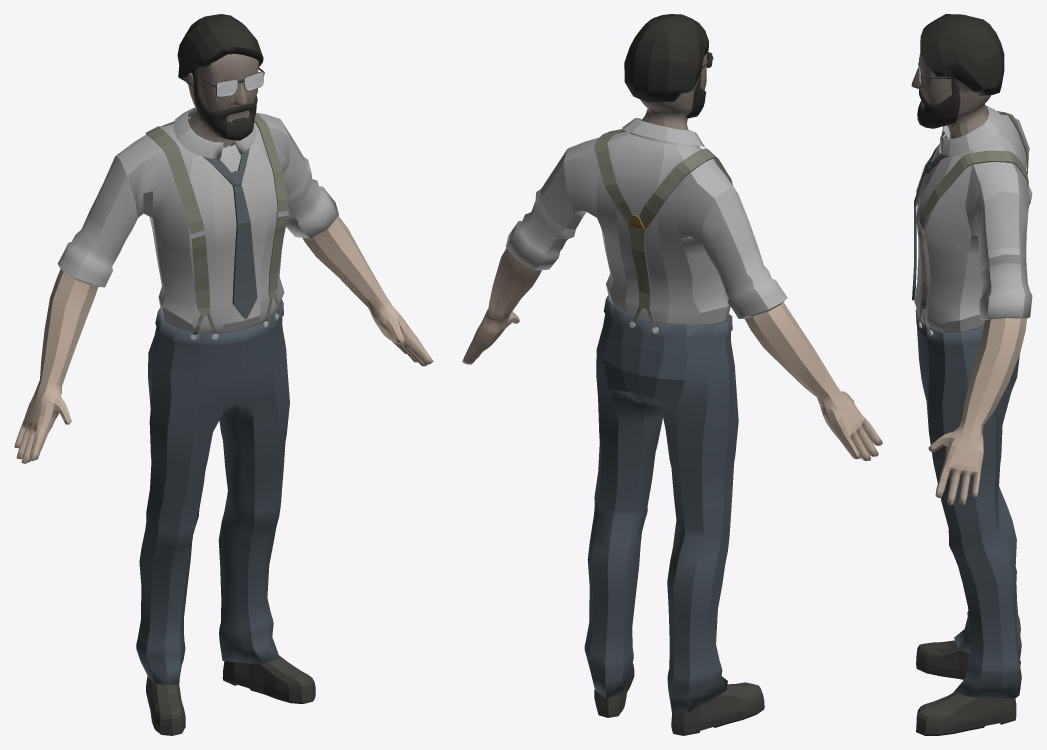
Rendered from Personagem.fbx.
3 views of the same model, side by side, from view 1: azimuth 30°, elevation 25°; view 2: azimuth 150°, elevation 25°; view 3: azimuth 270°, elevation 25° (orthographic).
Parts seen in each view (by area): view 1: Personagem; view 2: Personagem; view 3: Personagem.
Boxes of the visible parts, bbox=[...] form: Personagem: bbox=[14, 14, 433, 735]; Personagem: bbox=[462, 14, 882, 735]; Personagem: bbox=[911, 14, 1032, 735].
Bounding box in the file's own units: 112 × 180 × 28.93.
